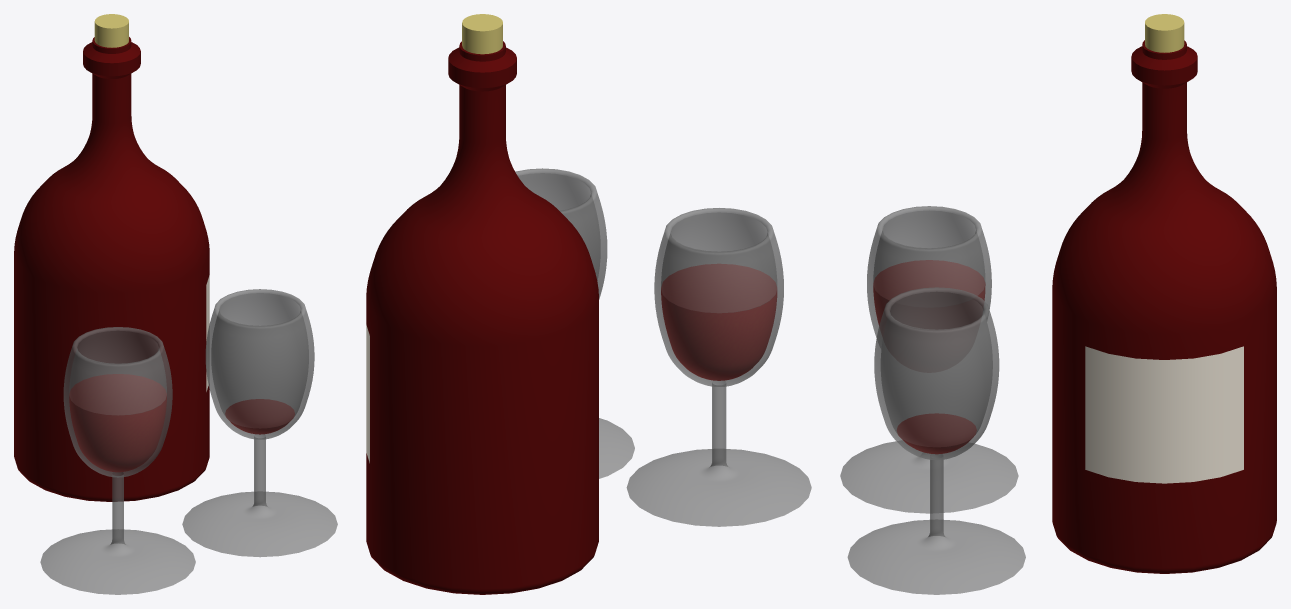
3 views of the same model, side by side, from view 1: azimuth 30°, elevation 25°; view 2: azimuth 150°, elevation 25°; view 3: azimuth 270°, elevation 25° (orthographic). The views are drawn at different scales.
Parts seen in each view (by area): view 1: Mesh3_Group3_Wine_Bottle___Glasses1_Model; view 2: Mesh3_Group3_Wine_Bottle___Glasses1_Model; view 3: Mesh3_Group3_Wine_Bottle___Glasses1_Model.
Boxes of the visible parts, x1,y1,x2,y2 form: Mesh3_Group3_Wine_Bottle___Glasses1_Model: (14,14,337,594); Mesh3_Group3_Wine_Bottle___Glasses1_Model: (366,14,811,594); Mesh3_Group3_Wine_Bottle___Glasses1_Model: (840,14,1276,594).
Bounding box in the file's own units: 0.9714 × 1.47 × 1.14.
